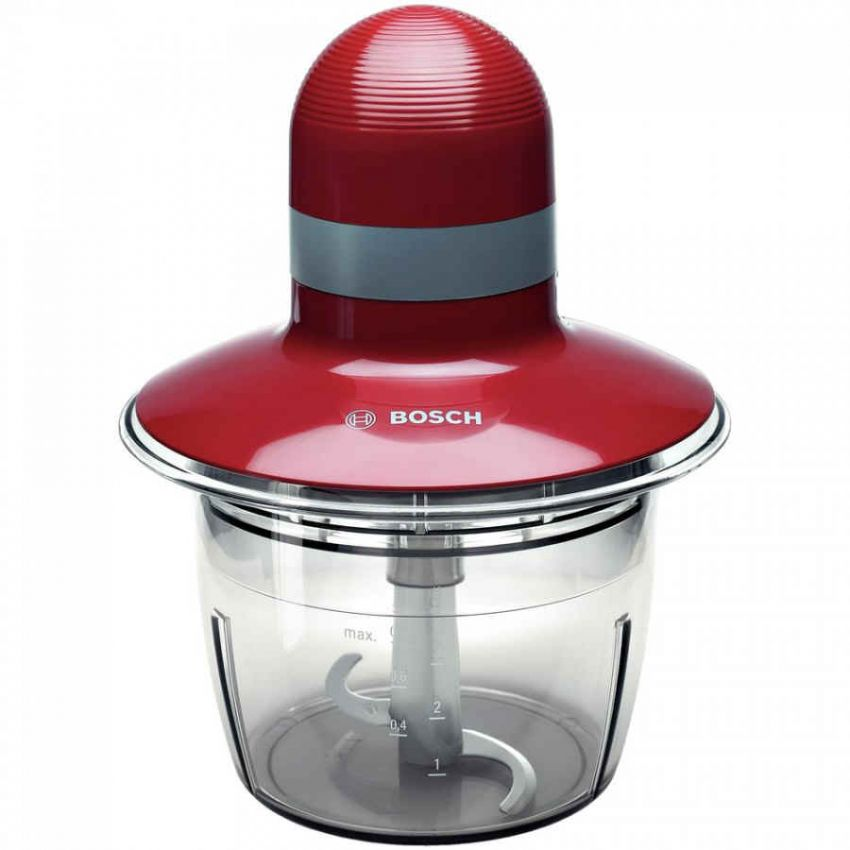Bosch: (384, 400, 489, 430)
